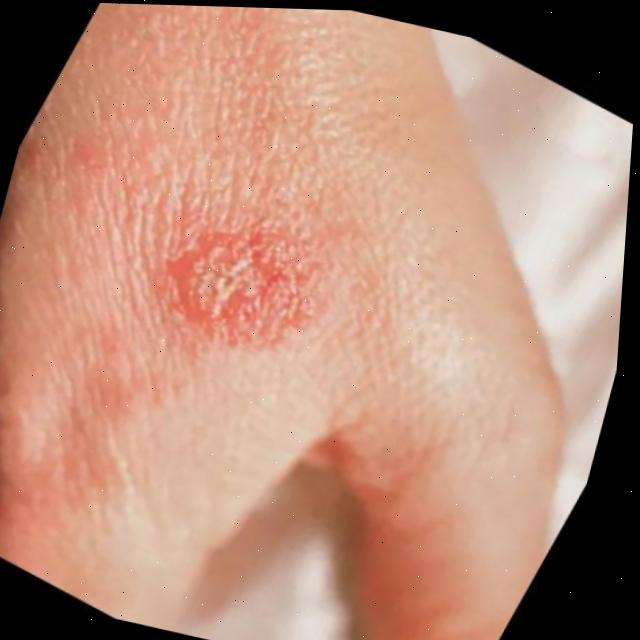Eczema: (182, 216, 355, 373)
